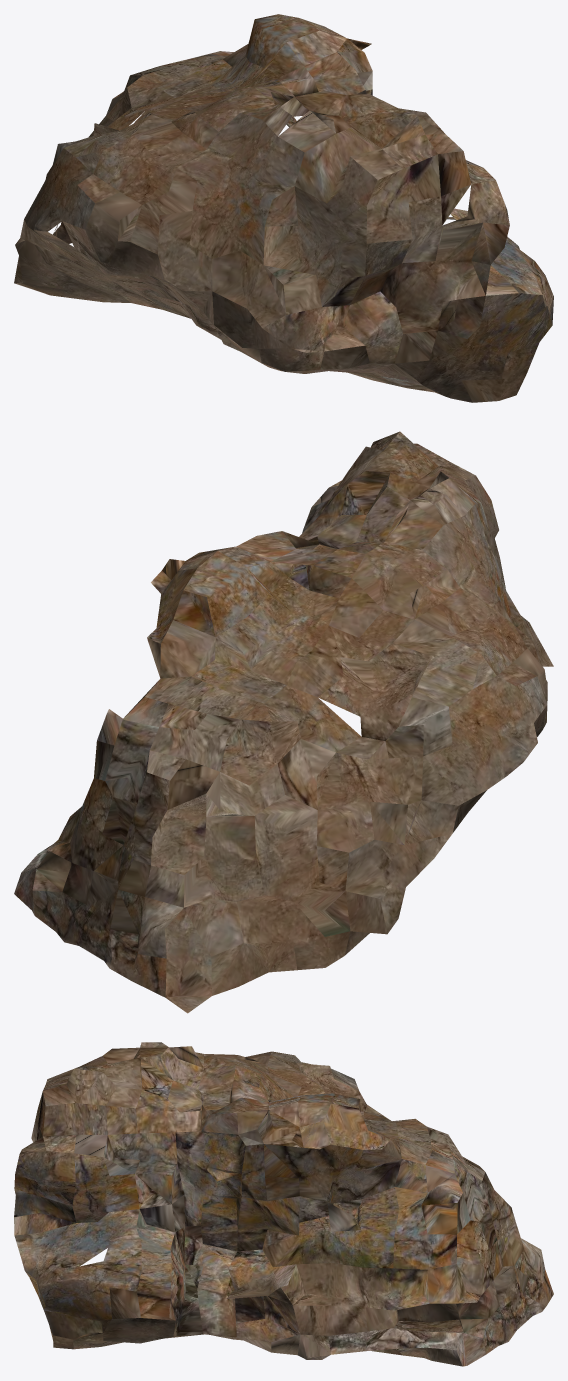
The model's file is pedra.glb.
The picture shows the model from 3 angles, top to bottom: view 1: azimuth 30°, elevation 25°; view 2: azimuth 150°, elevation 25°; view 3: azimuth 270°, elevation 25°; orthographic projection. The views are drawn at different scales.
Parts seen in each view (by area): view 1: pedra; view 2: pedra; view 3: pedra.
Part boxes in pixels (<box>): pedra: <box>14,14,553,402</box>; pedra: <box>14,431,553,1013</box>; pedra: <box>14,1042,553,1366</box>.
Size of the model in its own units: 1.27 by 0.9488 by 1.76.
Materials: 1 (1 with a texture image).
